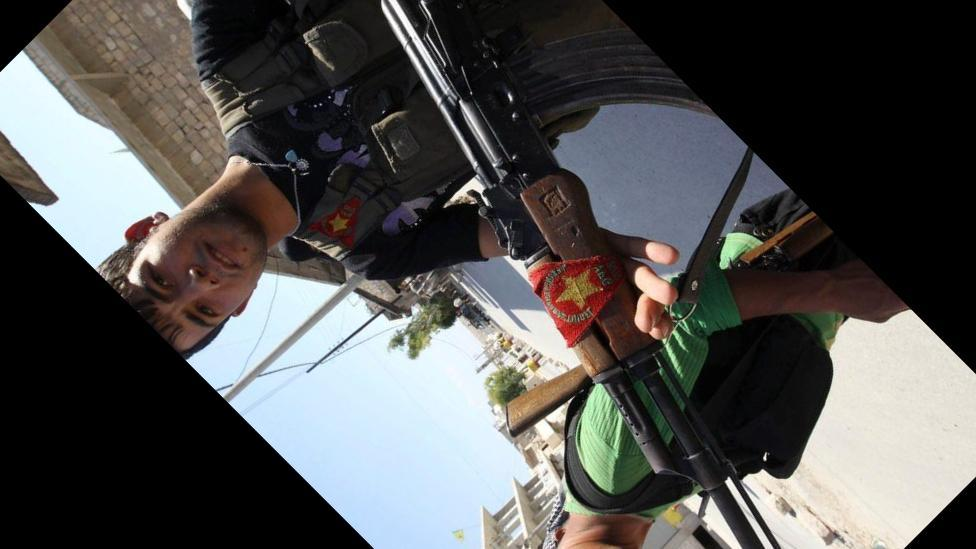larga: (380, 0, 780, 549), (504, 366, 595, 437)
